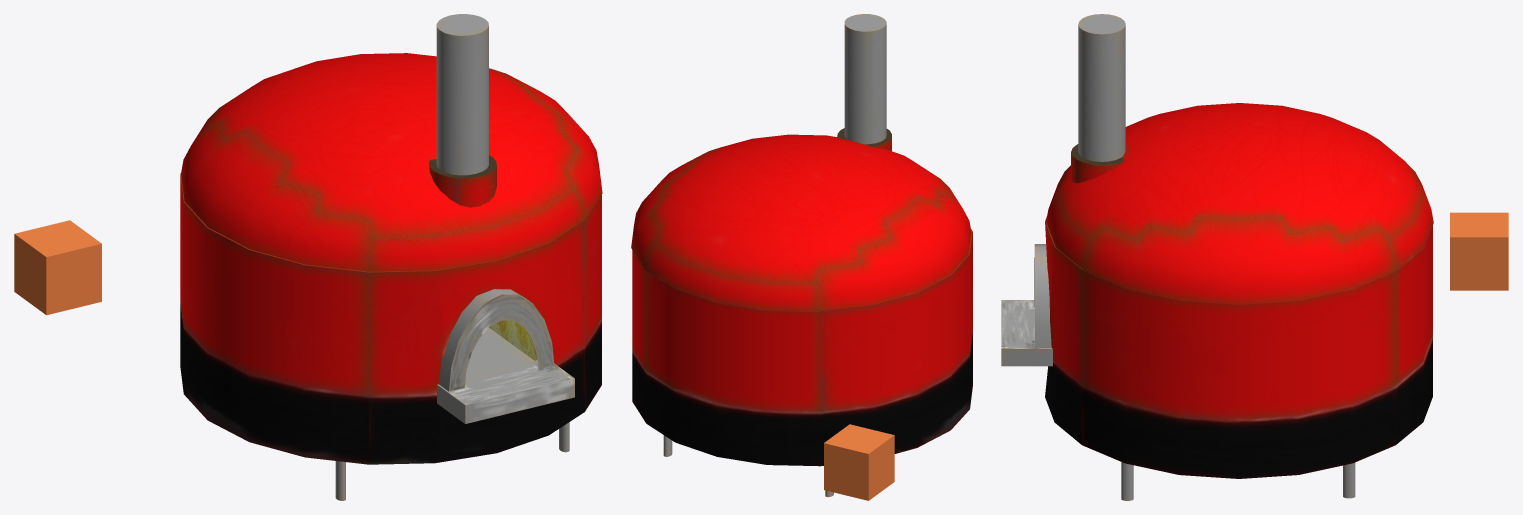
Rendered from cuptor.fbx.
The picture shows the model from 3 angles, left to right: view 1: azimuth 30°, elevation 25°; view 2: azimuth 150°, elevation 25°; view 3: azimuth 270°, elevation 25°; orthographic projection. The views are drawn at different scales.
Parts seen in each view (by area): view 1: Oven, Cube; view 2: Oven, Cube; view 3: Oven, Cube.
Part boxes in pixels (box(x1,y1,x2,y2)): Oven: box(180, 14, 602, 500); Cube: box(14, 220, 101, 315); Oven: box(631, 14, 972, 497); Cube: box(824, 424, 894, 500); Oven: box(1001, 14, 1433, 500); Cube: box(1450, 212, 1508, 290).
Bounding box in the file's own units: 1491 × 1593 × 1731.
Materials: 2 (1 with a texture image).
